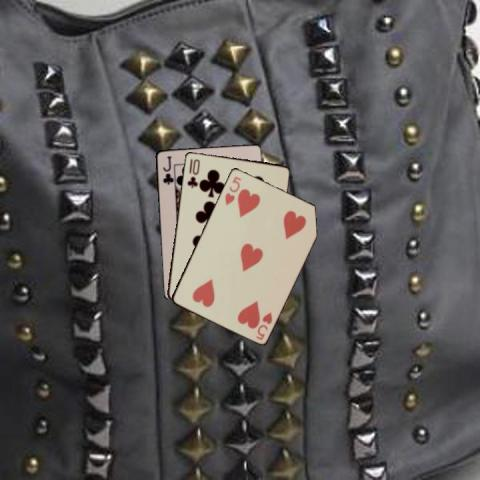10c: (184, 156, 201, 190)
5h: (221, 173, 243, 207), (253, 309, 273, 341)
Jc: (160, 153, 174, 186)
